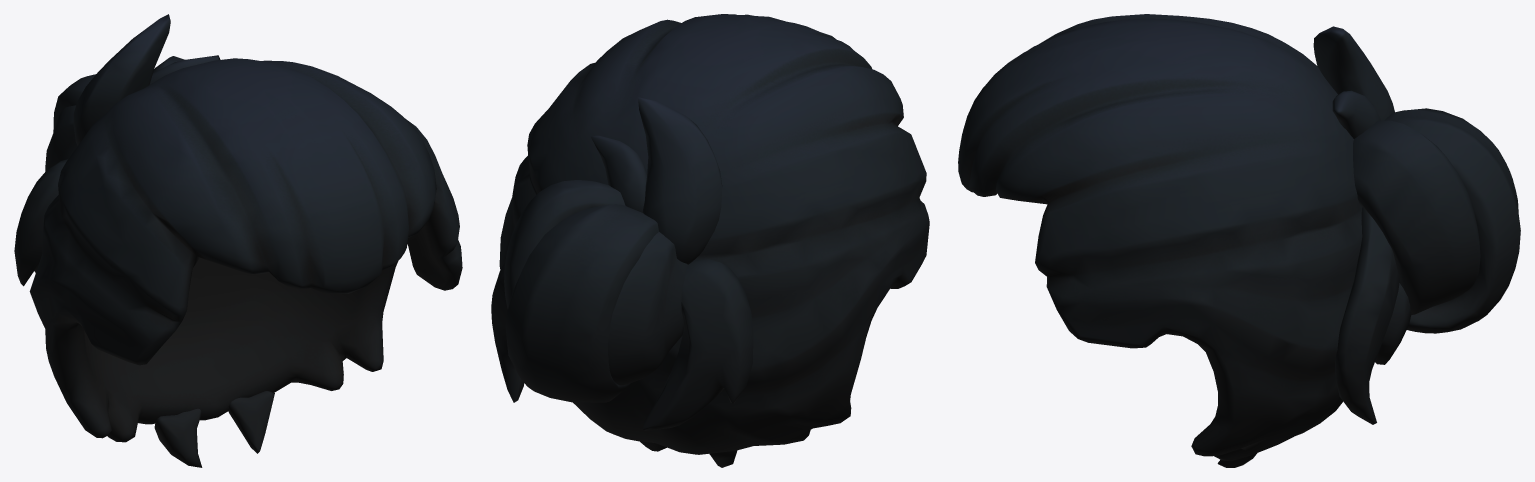
The model's file is SM_HAIR_MessyKnotBun.fbx.
3 views of the same model, side by side, from view 1: azimuth 30°, elevation 25°; view 2: azimuth 150°, elevation 25°; view 3: azimuth 270°, elevation 25° (orthographic). The views are drawn at different scales.
Parts seen in each view (by area): view 1: HAIR_MessyKnotBun; view 2: HAIR_MessyKnotBun; view 3: HAIR_MessyKnotBun.
Boxes of the visible parts, left/top/right/bottom form: HAIR_MessyKnotBun: left=14, top=14, right=462, bottom=467; HAIR_MessyKnotBun: left=491, top=14, right=929, bottom=467; HAIR_MessyKnotBun: left=958, top=14, right=1520, bottom=467.
Bounding box in the file's own units: 63.16 × 66.56 × 80.98.
1 material, 1 textured.
